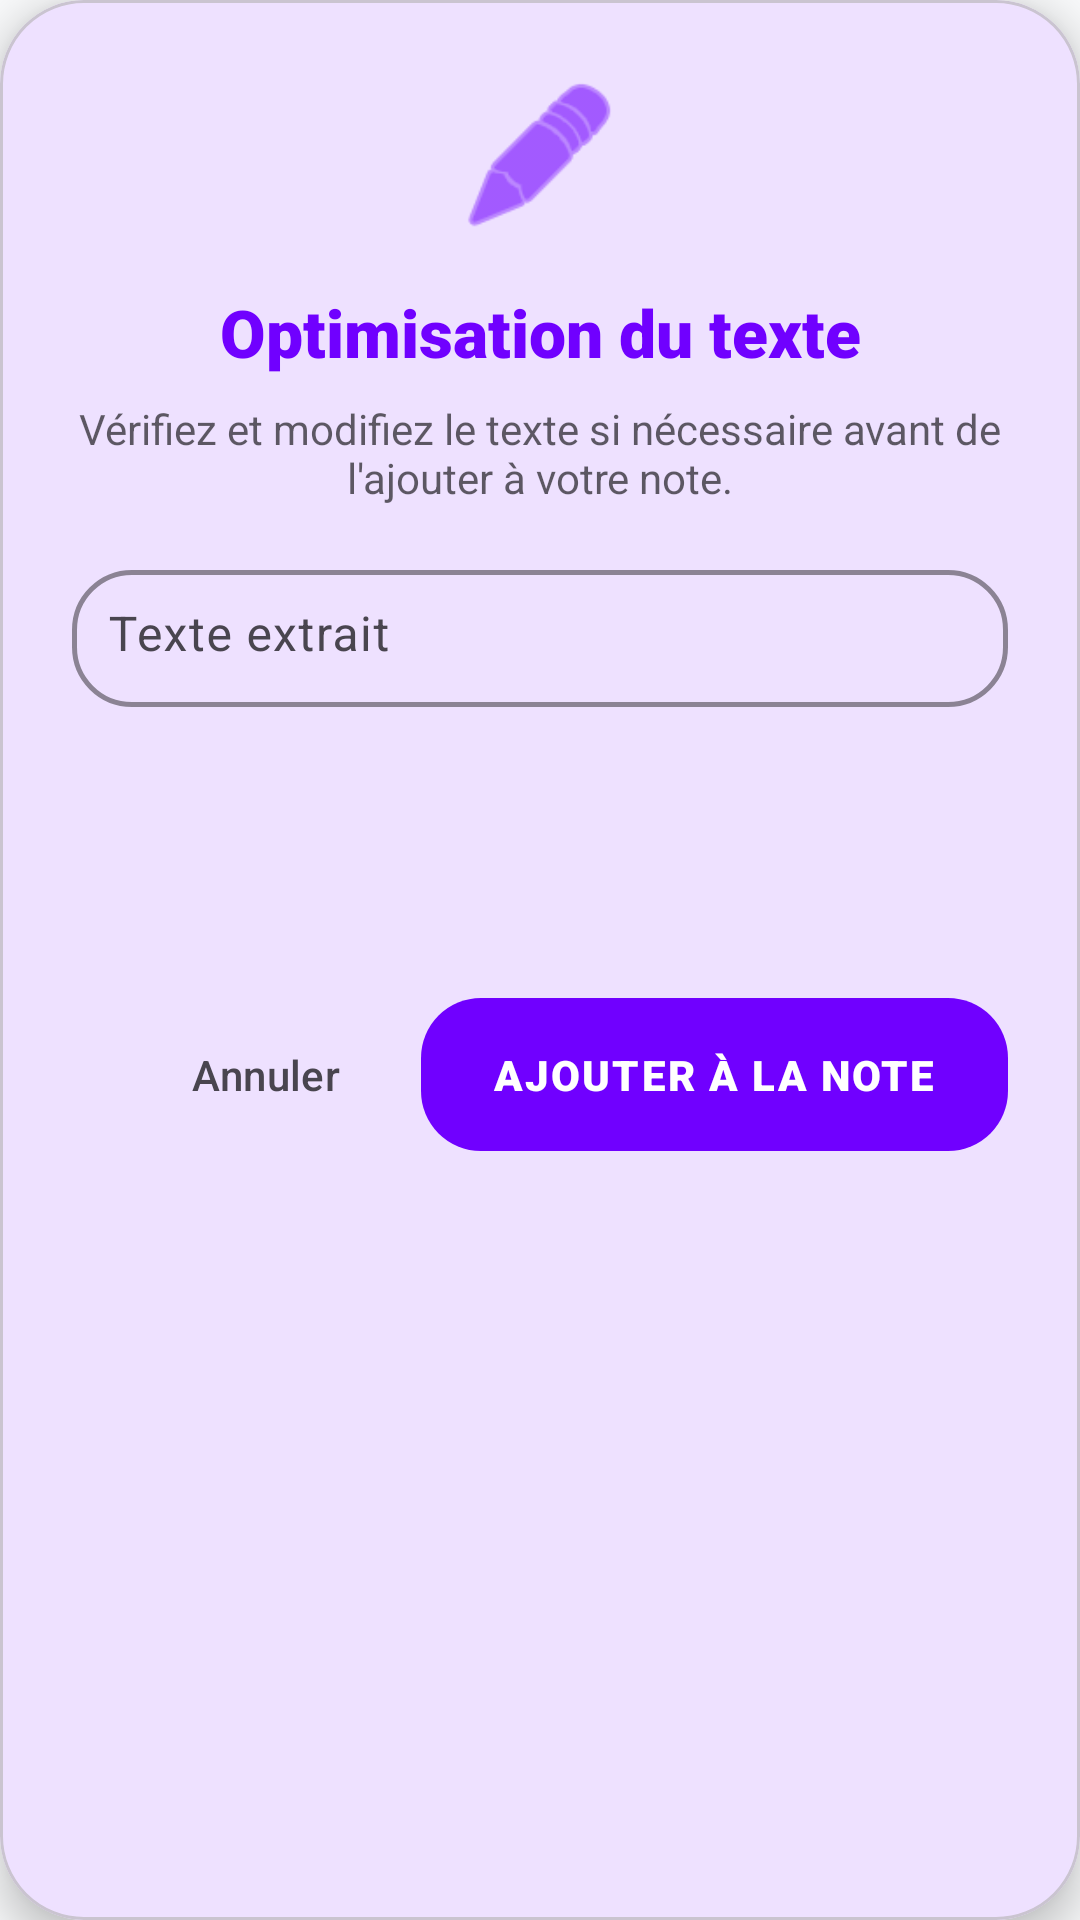

Icon click points for this 1080 x 1920 phone screenshot, format (x,y):
edit: (539,155)
